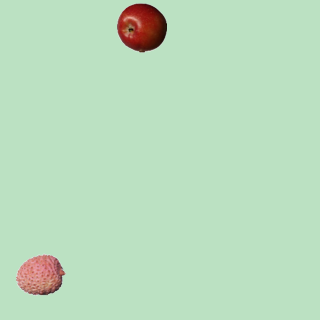Apple Braeburn: (116, 2, 166, 52)
Lychee: (15, 249, 65, 299)
